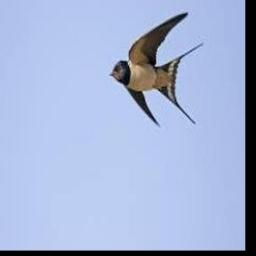Swallow: (110, 11, 205, 126)
